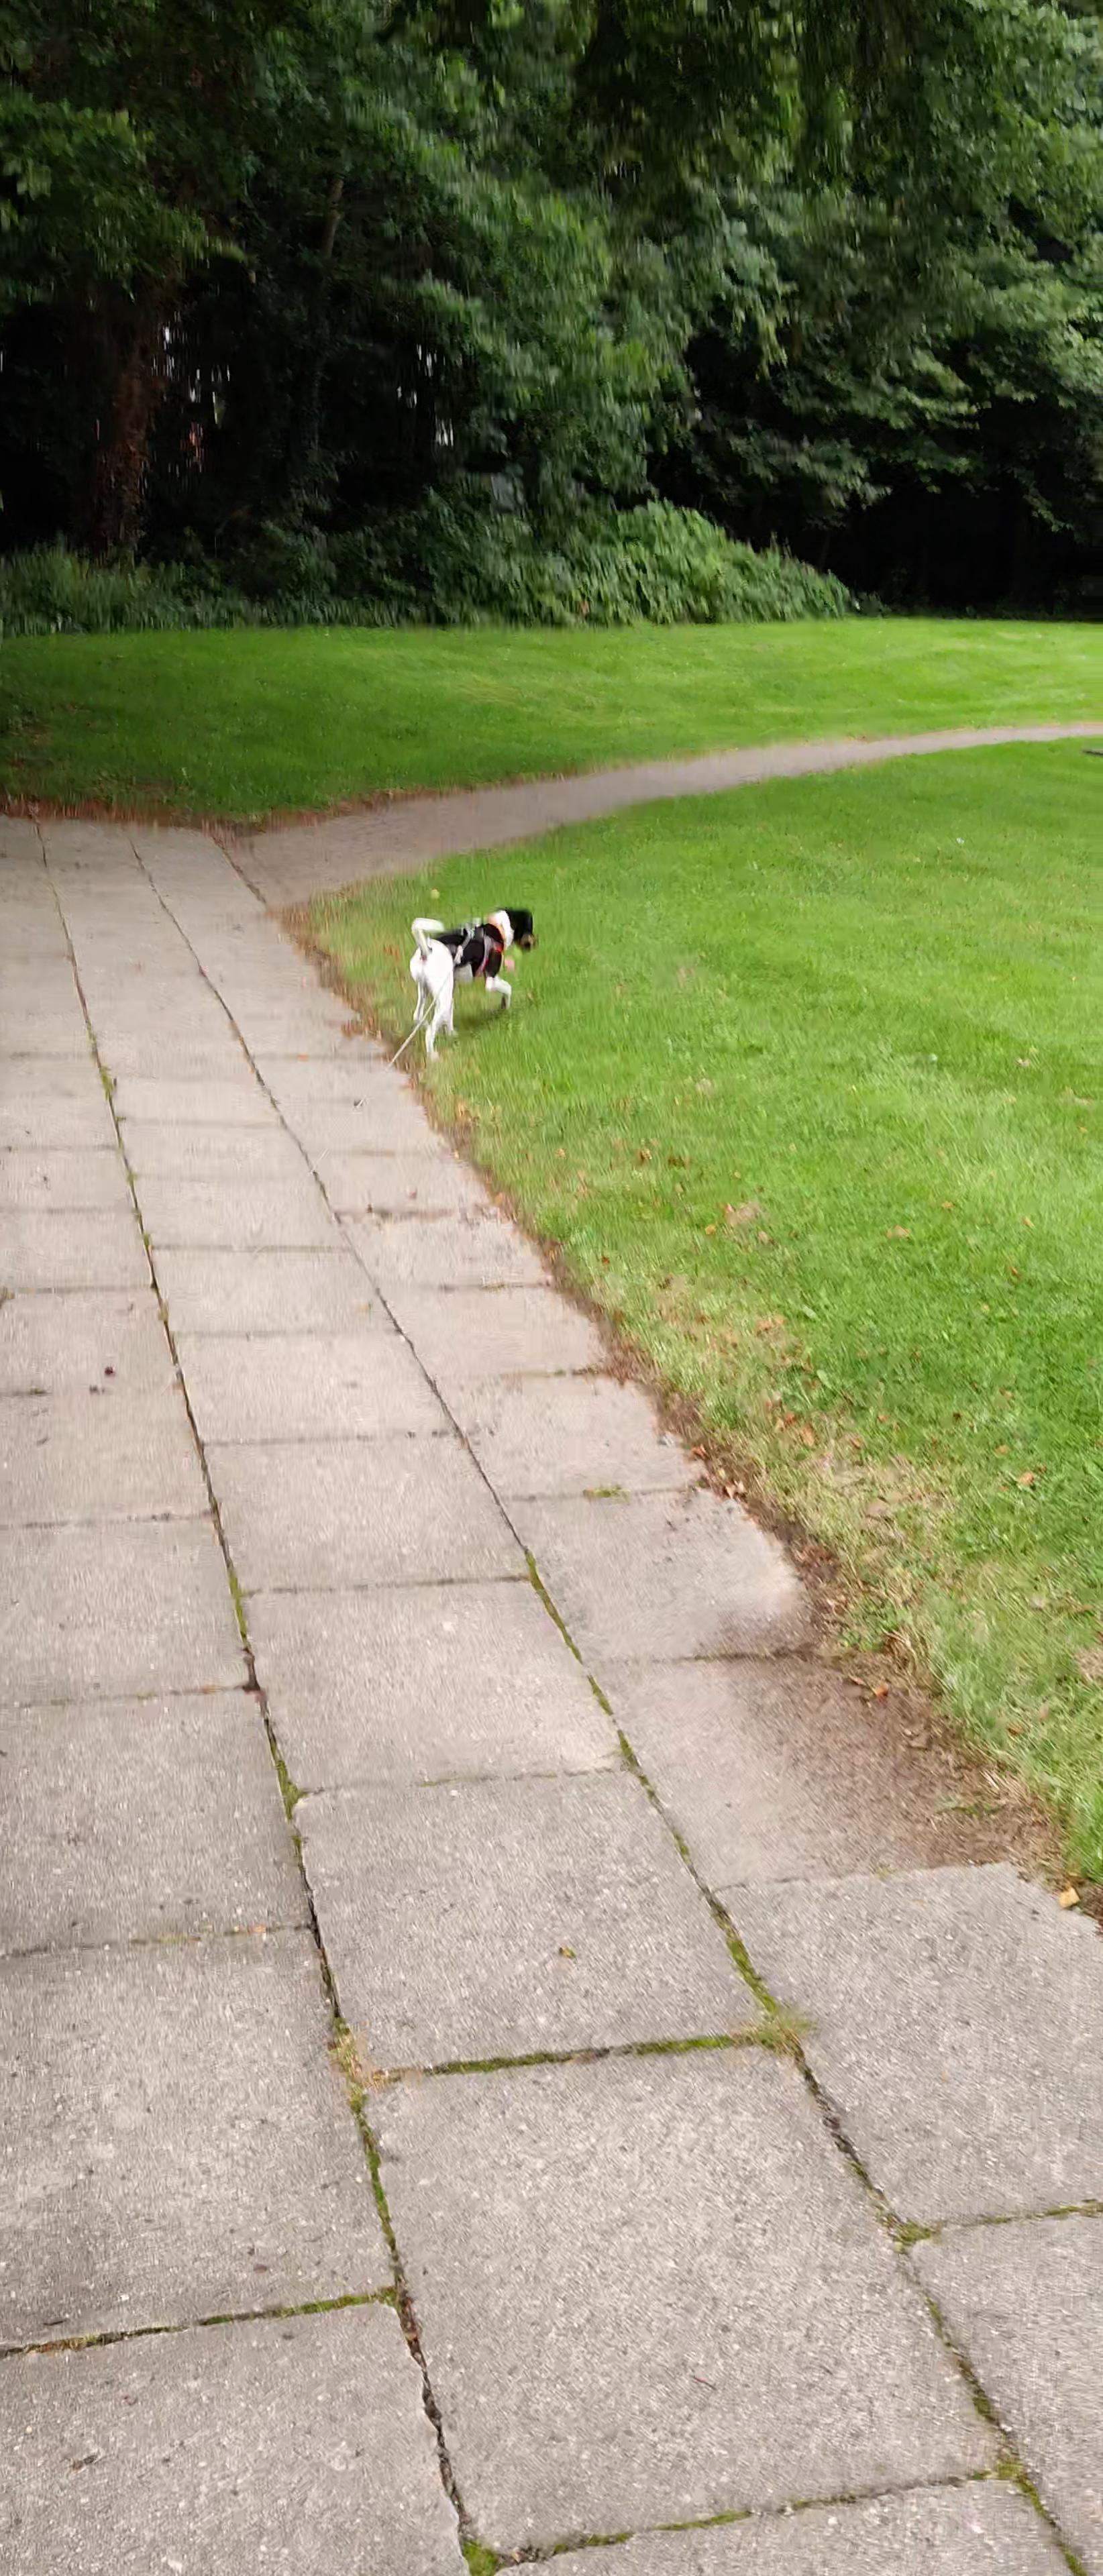Dog: (396, 887, 549, 1068)
